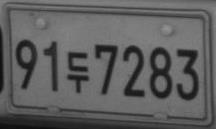1: (42, 40, 64, 90)
2: (121, 44, 146, 96)
3: (176, 48, 199, 101)
7: (95, 43, 118, 95)
8: (148, 46, 173, 99)
9: (14, 38, 38, 89)
두: (66, 51, 90, 93)
